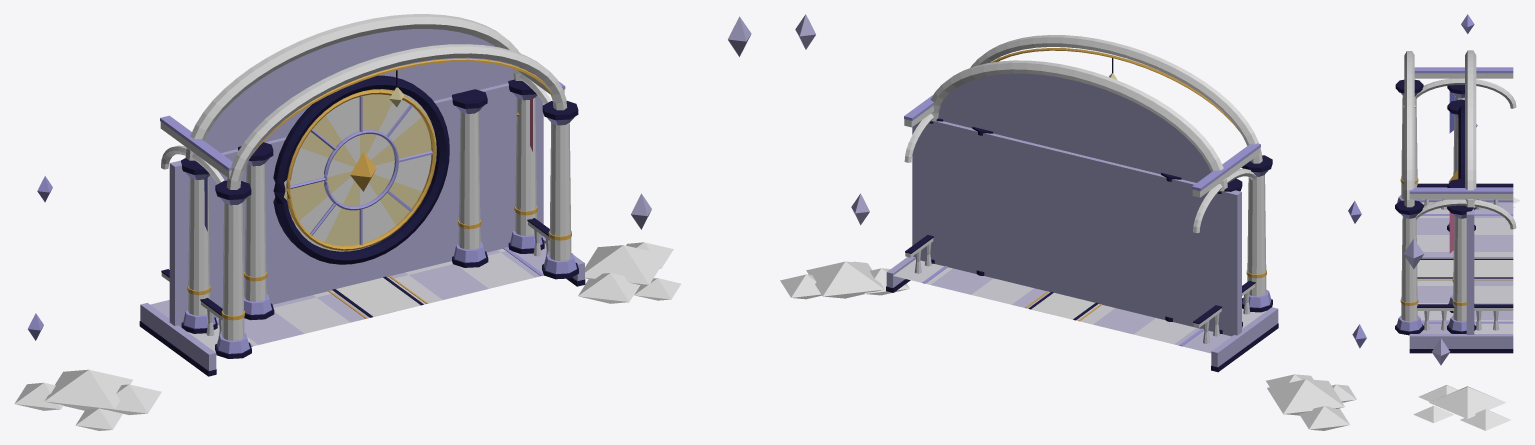
File: corridor.glb
The picture shows the model from 3 angles, left to right: view 1: azimuth 30°, elevation 25°; view 2: azimuth 150°, elevation 25°; view 3: azimuth 270°, elevation 25°; orthographic projection. The views are drawn at different scales.
Parts seen in each view (by area): view 1: end, bay, runner; view 2: end, bay, runner; view 3: bay, end, runner.
Part boxes in pixels (x1=…): end: x1=169, y1=14, x2=544, y2=333; bay: x1=14, y1=16, x2=751, y2=430; runner: x1=336, y1=277, x2=420, y2=316; end: x1=912, y1=60, x2=1242, y2=336; bay: x1=780, y1=14, x2=1366, y2=430; runner: x1=1031, y1=292, x2=1095, y2=319; bay: x1=1395, y1=14, x2=1520, y2=430; end: x1=1447, y1=50, x2=1476, y2=334; runner: x1=1417, y1=260, x2=1513, y2=277.
Bounding box in the file's own units: 23.09 × 10.49 × 4.85.
